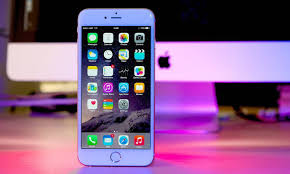iphone: (75, 4, 158, 173)
iphone6: (72, 5, 155, 174)
